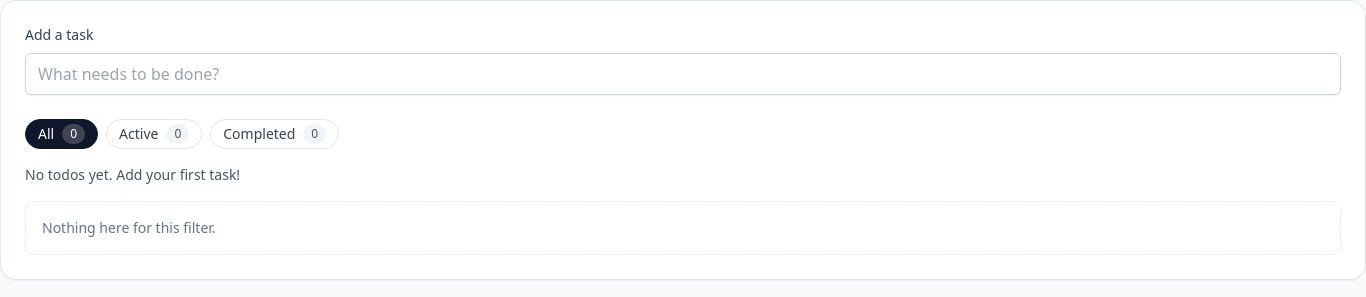
Test: TodoApp integration › adds a todo on Enter
This screenshot has width=1366, height=297.
Type "Buy milk" into the field named "add a todo".
click(683, 74); type("Buy milk")  # box [25, 53, 1341, 95]
Then press Enter
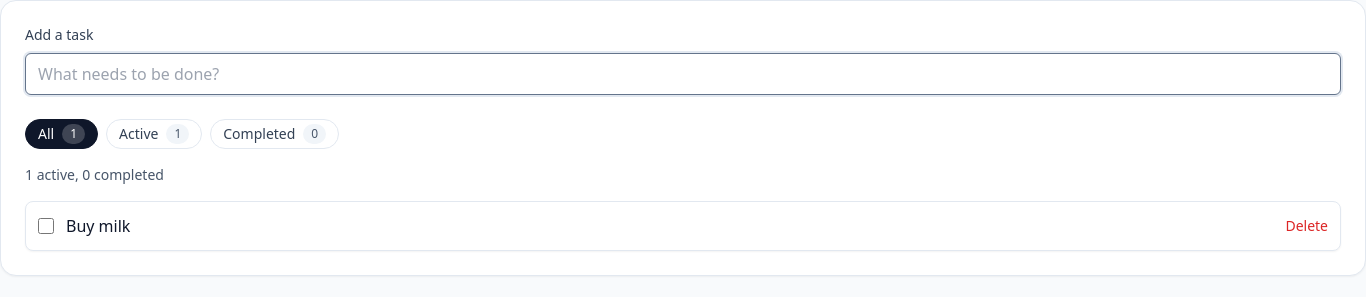
expect the text "Buy milk" is shown: met, box [66, 214, 130, 238]
